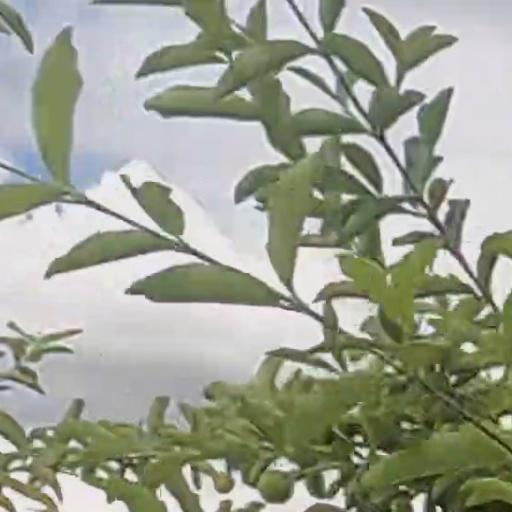acerola_verde: (260, 473, 292, 502)
